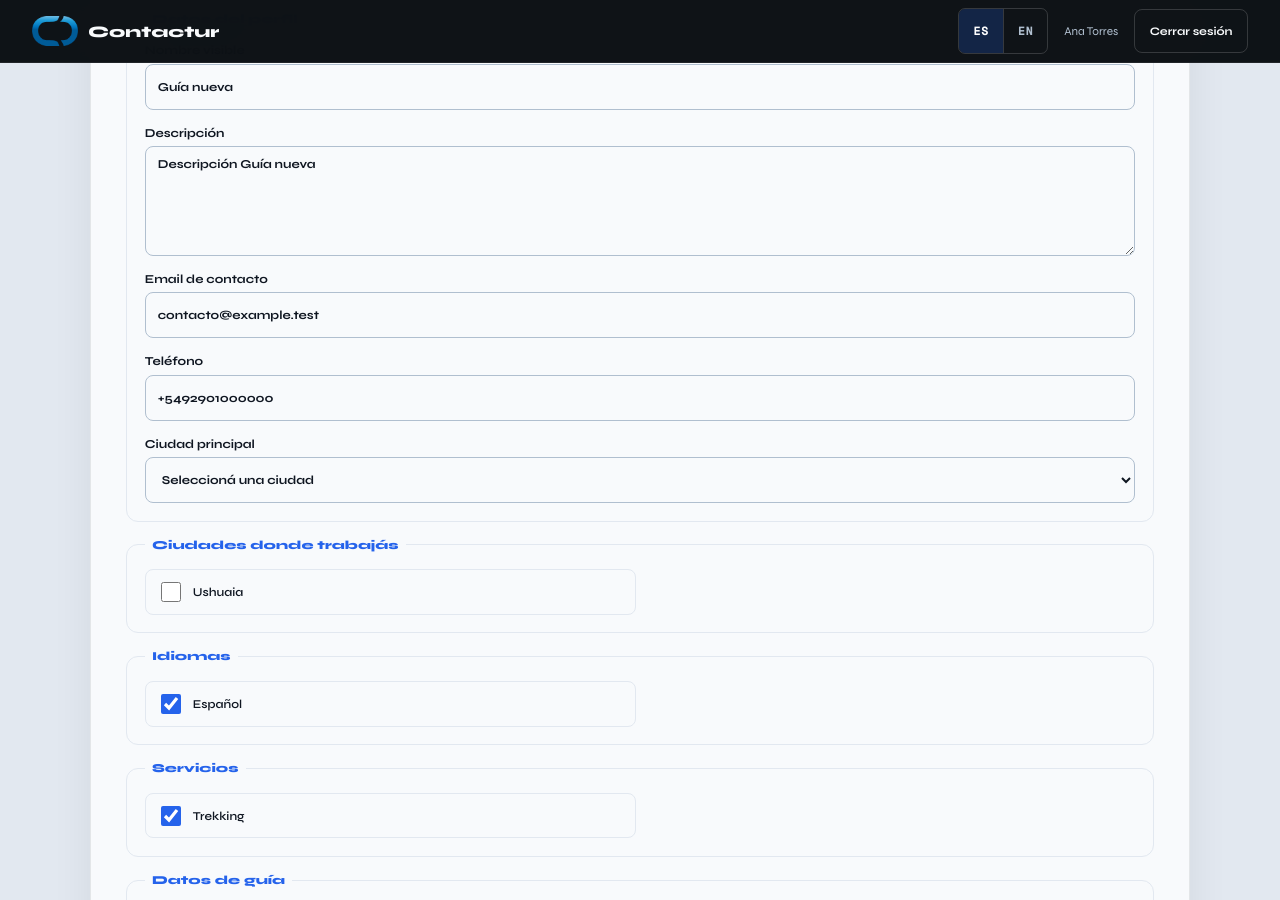
Test: T08 — onboarding › persiste ciudades antes del PATCH y avanza con respuestas tipadas reales
The width and height of the screenshot is (1280, 900).
(page scrolled)
Select "Ushuaia" in the dropdown labelled "Ciudad principal" at coordinates (640, 480), box left=145, top=457, right=1135, bottom=503
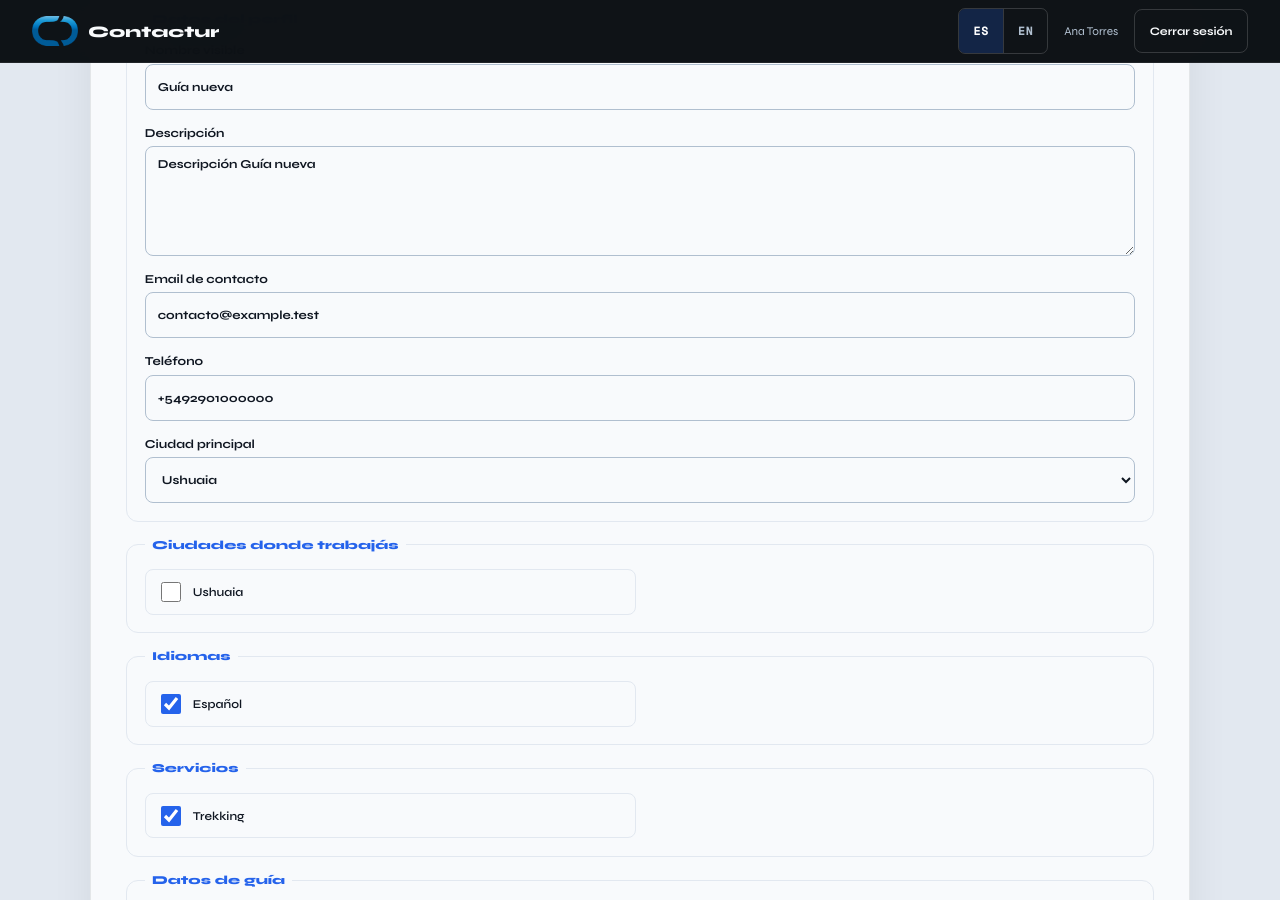
Click the checkbox labelled "Ushuaia" at coordinates (171, 592), box left=161, top=582, right=181, bottom=602
(page scrolled)
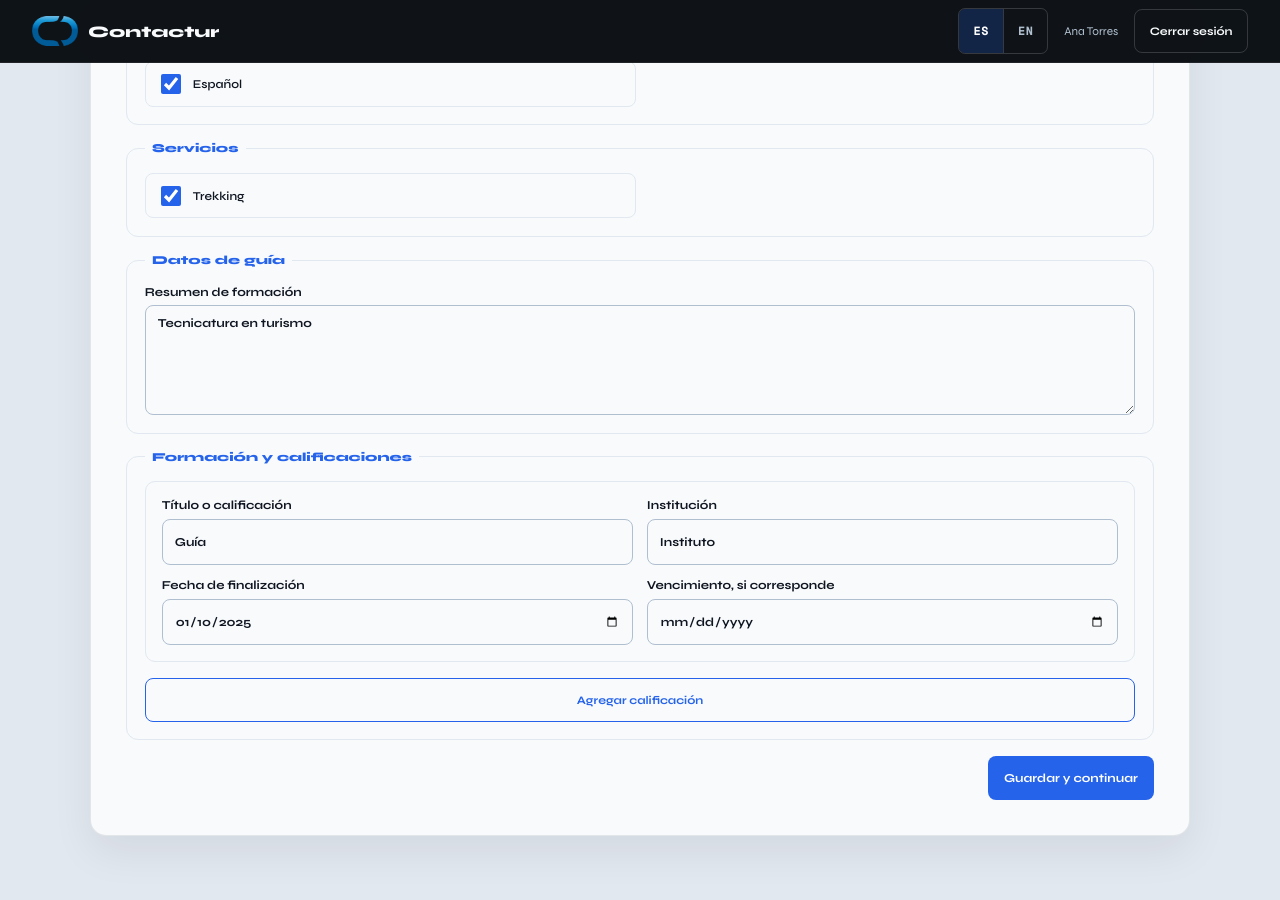
Click the button "Guardar y continuar" at coordinates (1071, 778), box left=988, top=756, right=1154, bottom=800
(page scrolled)
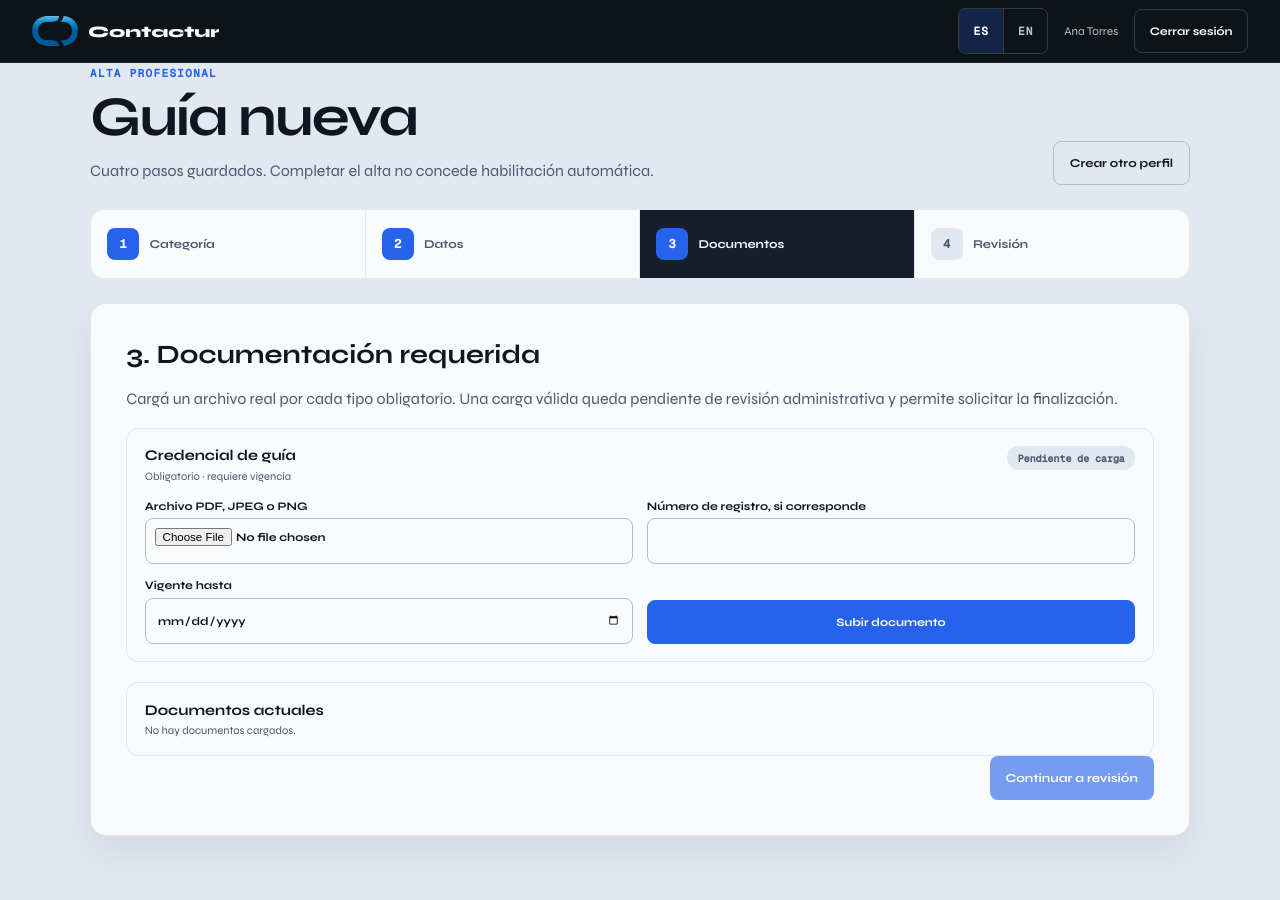
expect the heading "3. Documentación requerida" is shown: met, box left=126, top=339, right=540, bottom=370
expect the heading "Credencial de guía" is shown: met, box left=145, top=446, right=296, bottom=464
